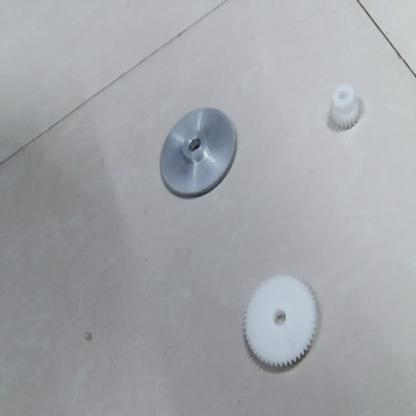FOD: (158, 104, 242, 208), (237, 269, 323, 370), (328, 79, 361, 136)
